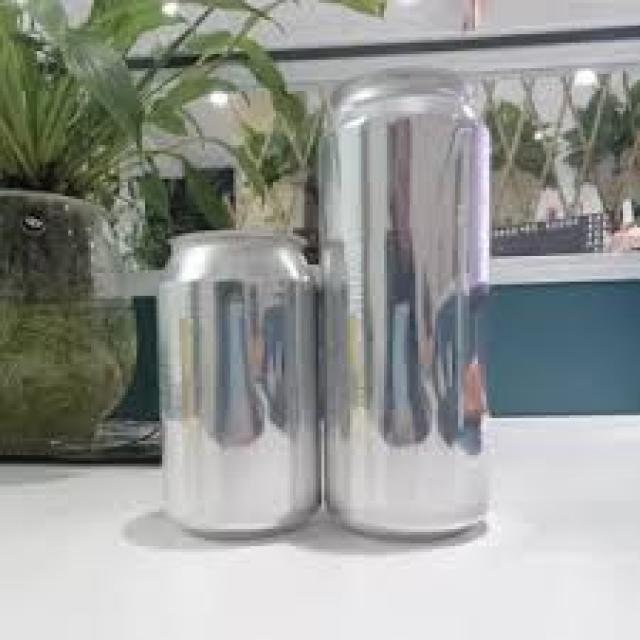Cans: (313, 66, 495, 540), (151, 222, 330, 549)
